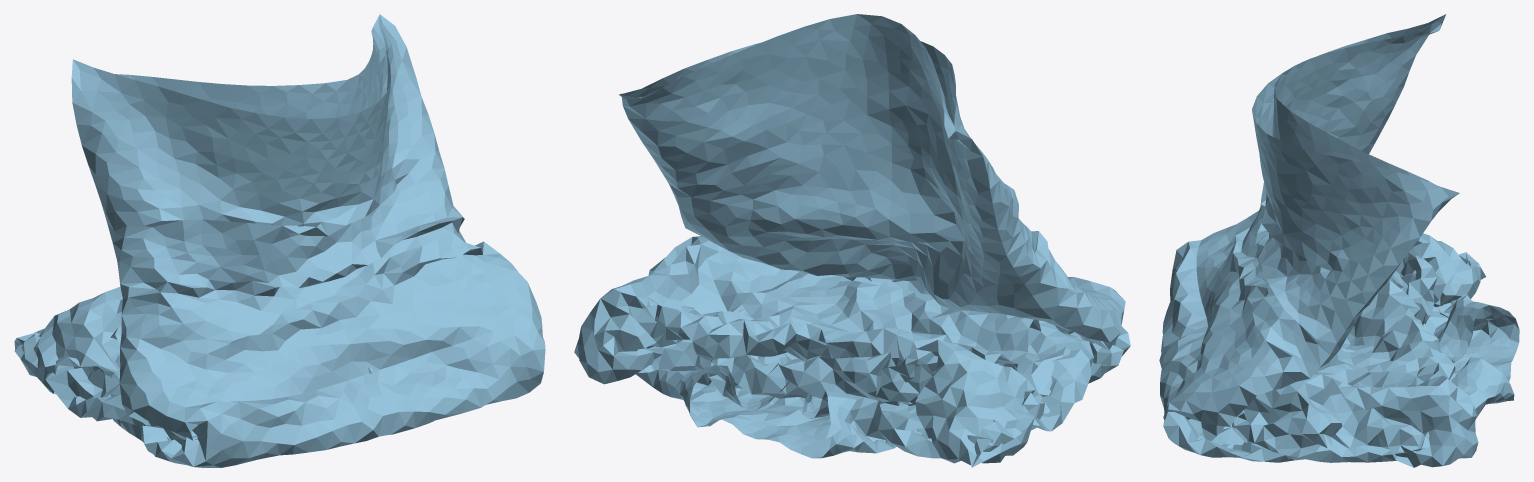
File: frame_17.glb
The picture shows the model from 3 angles, left to right: view 1: azimuth 30°, elevation 25°; view 2: azimuth 150°, elevation 25°; view 3: azimuth 270°, elevation 25°; orthographic projection. The views are drawn at different scales.
Visible parts, largest first — view 1: frame_17.obj; view 2: frame_17.obj; view 3: frame_17.obj.
Boxes of the visible parts, x1,y1,x2,y2 form: frame_17.obj: (14,14,545,467); frame_17.obj: (574,14,1130,467); frame_17.obj: (1159,14,1519,467).
Bounding box in the file's own units: 0.9516 × 0.6951 × 0.7509.
